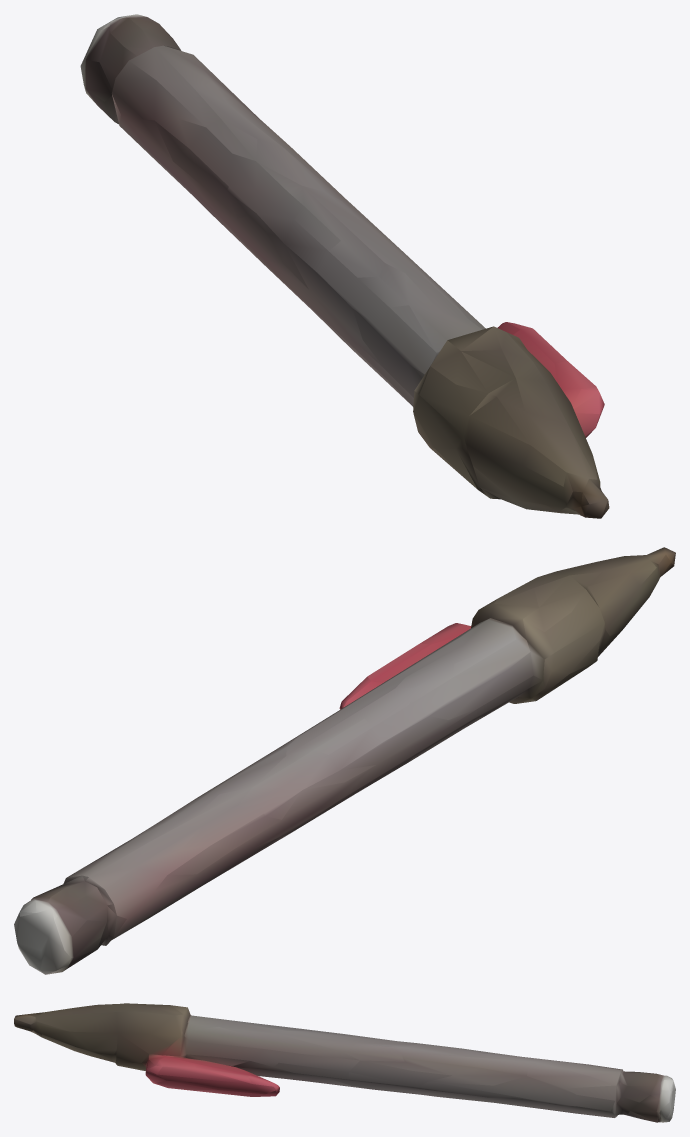
File: 0009_mask_010_pen.glb
3 views of the same model, one above another, from view 1: azimuth 30°, elevation 25°; view 2: azimuth 150°, elevation 25°; view 3: azimuth 270°, elevation 25° (orthographic). The views are drawn at different scales.
Parts seen in each view (by area): view 1: mask_010_object; view 2: mask_010_object; view 3: mask_010_object.
Boxes of the visible parts, bbox=[...] form: mask_010_object: bbox=[80, 14, 609, 518]; mask_010_object: bbox=[14, 547, 675, 974]; mask_010_object: bbox=[14, 1003, 675, 1122].
Bounding box in the file's own units: 0.05 × 0.0328 × 0.2389.
